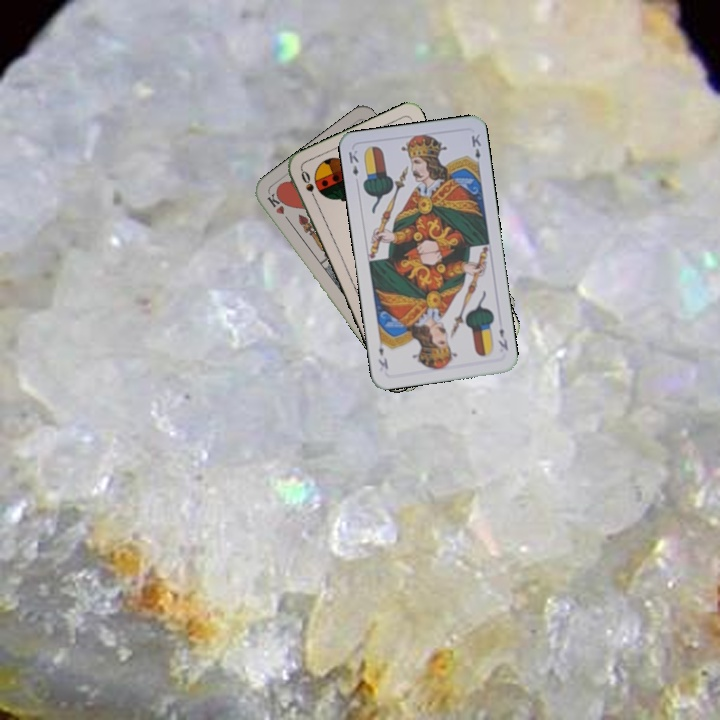EK: (344, 146, 361, 178), (494, 324, 511, 353)
HK: (263, 189, 293, 226)
SO: (297, 166, 320, 205)
